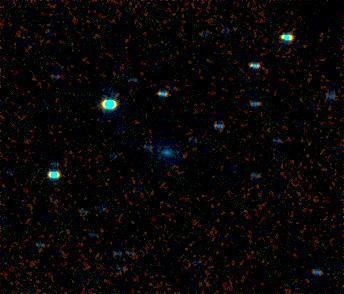star: (166, 138, 196, 168)
